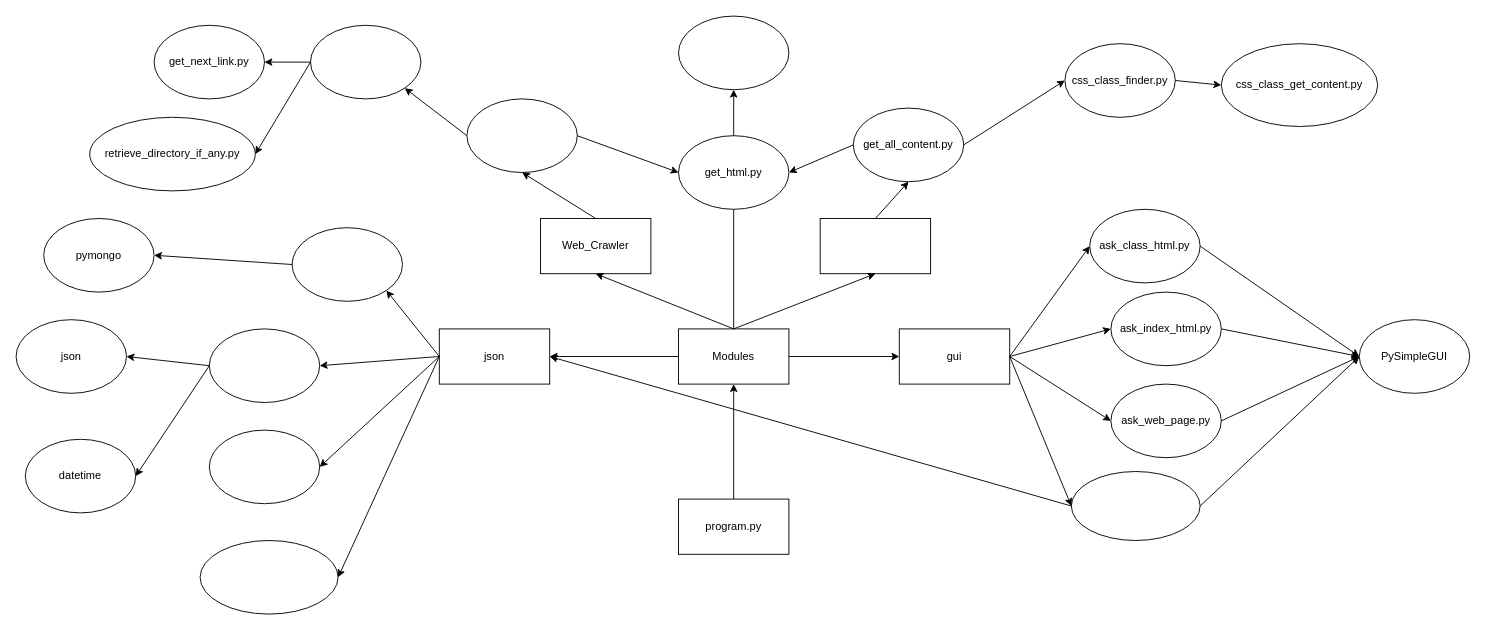
The diagram is 1486 pixels wide and 630 high, and some of its shapes have lost their labels. The centre of each missing label's shape, as x and y in pixels:
"get_all_links.py" goes at point (365, 61).
"get_all_pages.py" goes at point (521, 135).
"pretty_json_homemade.py" goes at point (268, 577).
"save_atlas.py" goes at point (346, 264).
"save_json.py" goes at point (264, 365).
"show_retrieved_data.py" goes at point (1135, 505).
"transform_json.py" goes at point (264, 466).
"urllib.request" goes at point (733, 52).
"Web_Scraper" goes at point (875, 246).
